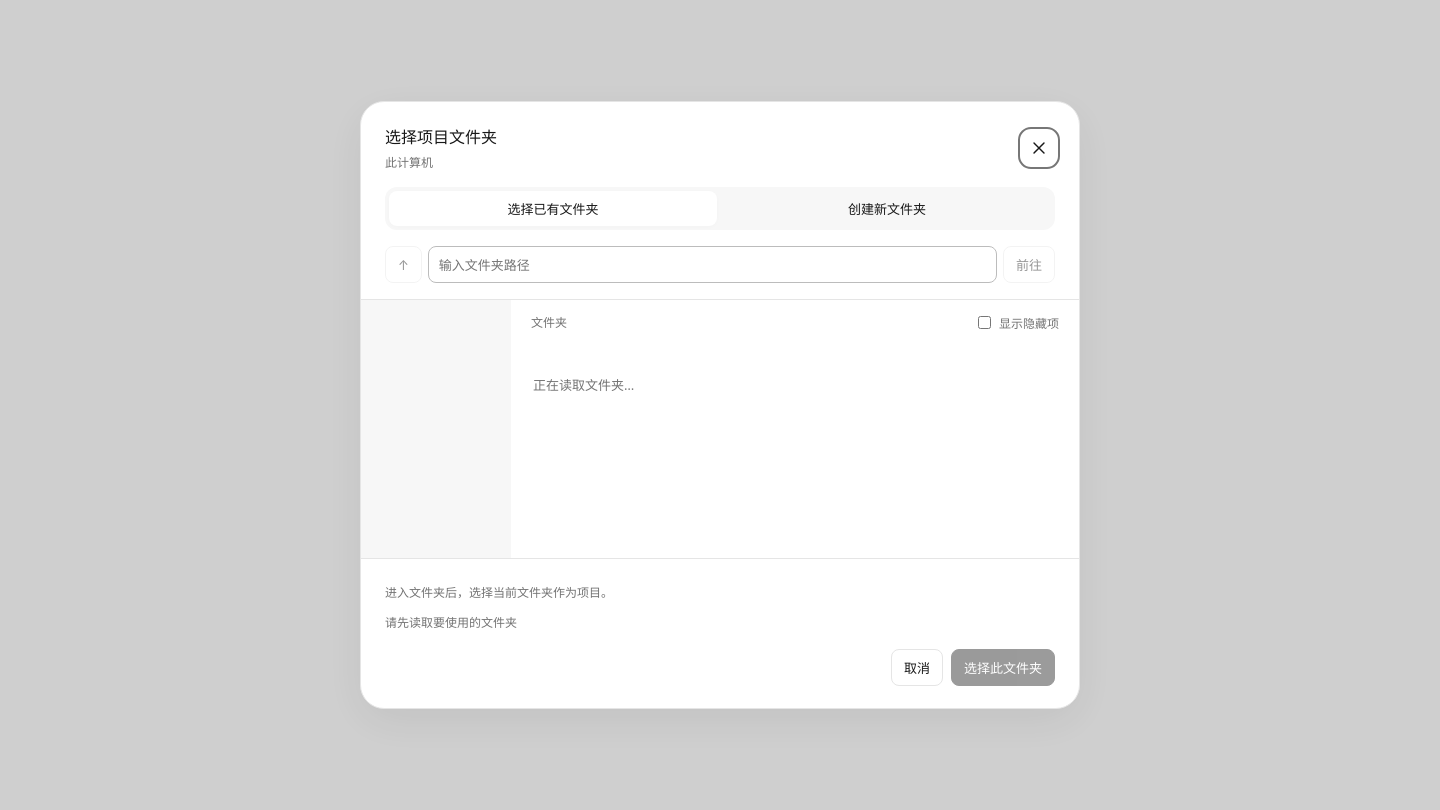
Test: keeps initial selection disabled until directory metadata arrives
Click the button "选择此文件夹" at (1003, 667), box [951, 649, 1055, 686]
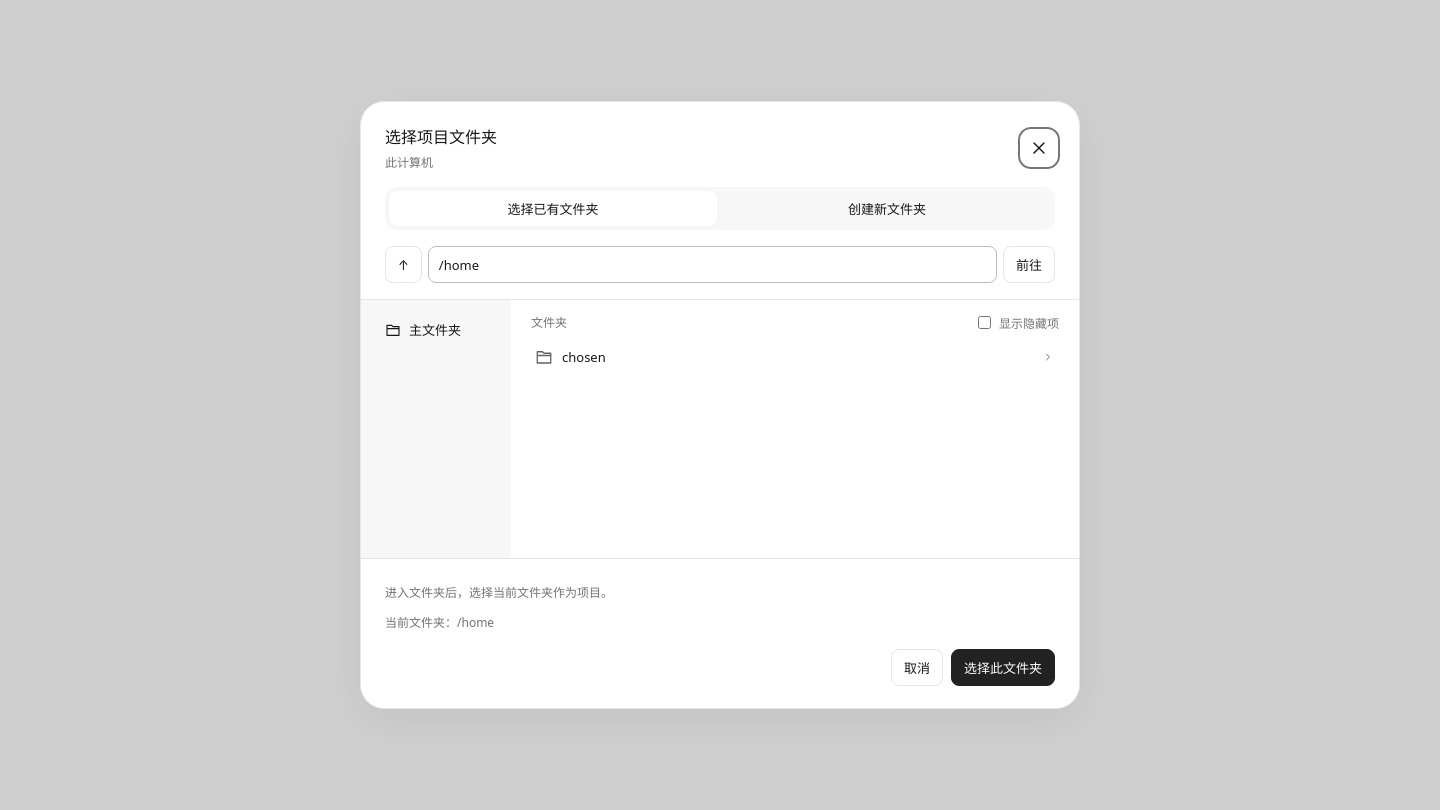
Expected: the checkbox labelled "我信任这个文件夹" is not shown
Result: the button "选择此文件夹" is enabled
Click the button "选择此文件夹" at (1003, 667), box [951, 649, 1055, 686]
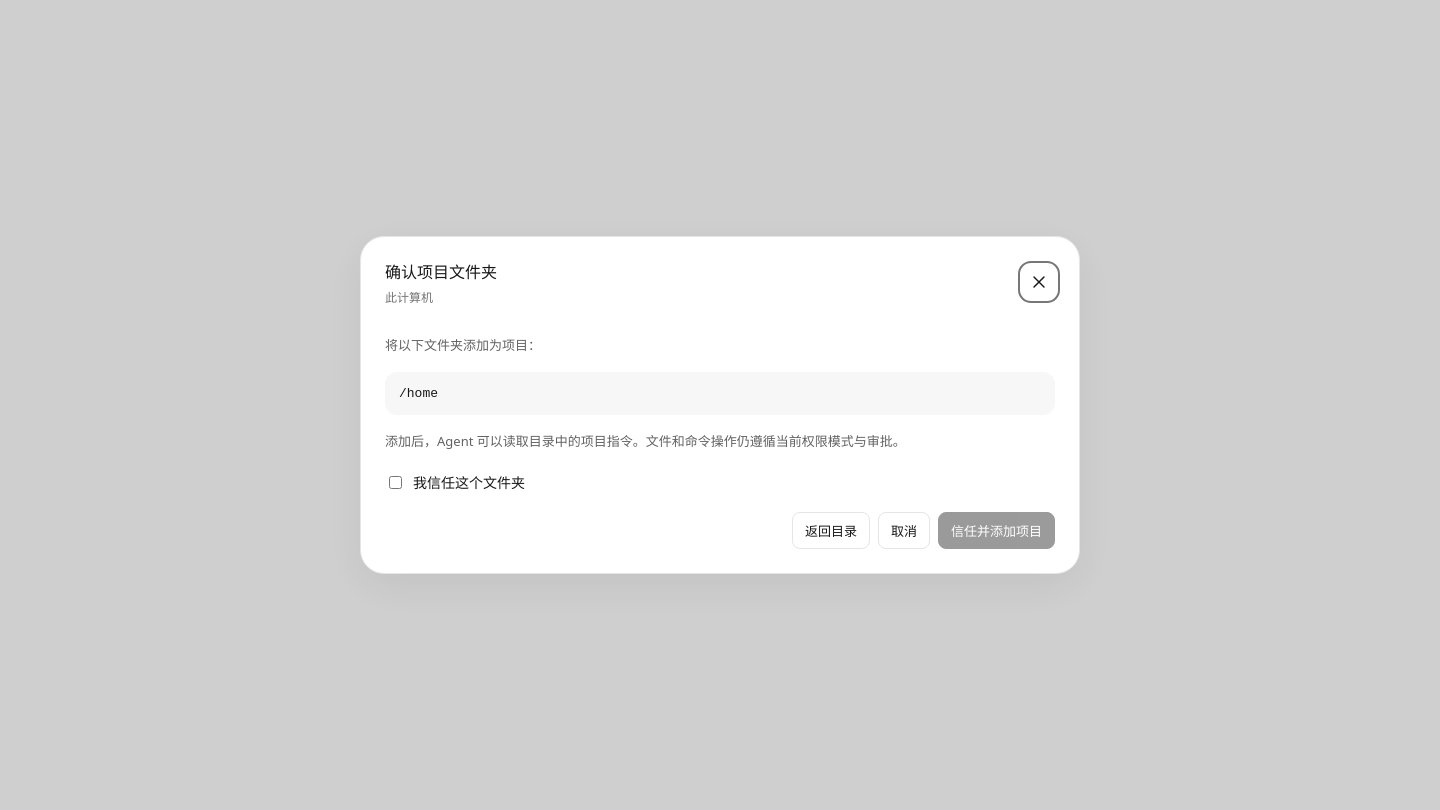
Result: the checkbox labelled "我信任这个文件夹" is shown at [389, 476, 402, 489]
